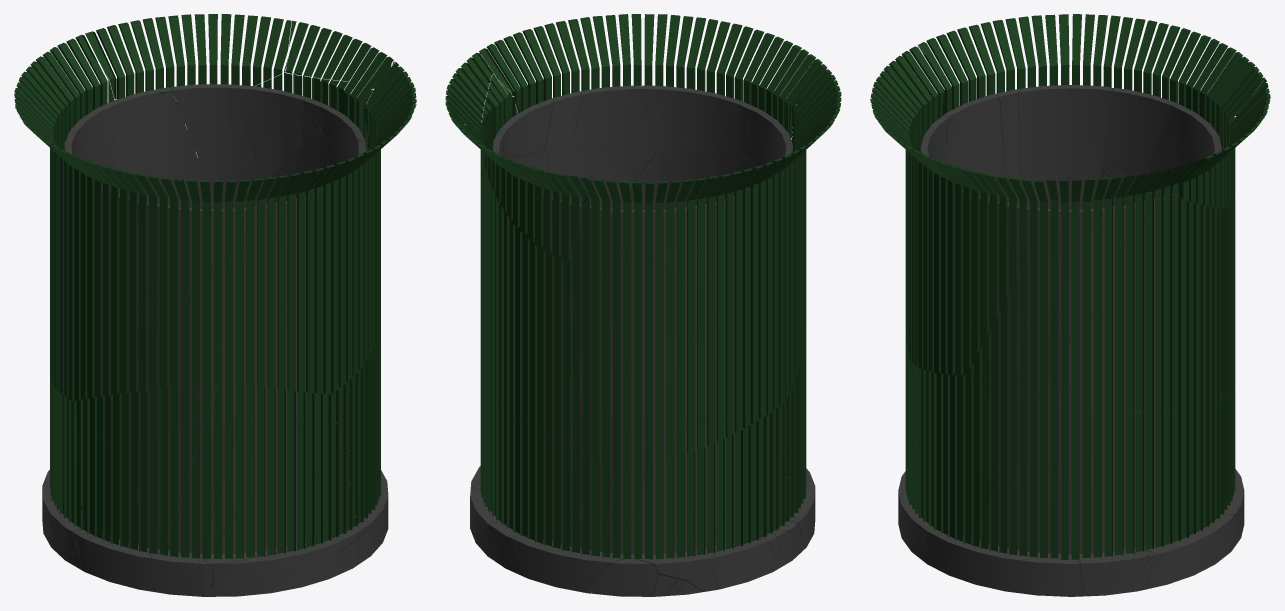
Rendered from TrashCanCellFracture.fbx.
3 views of the same model, side by side, from view 1: azimuth 30°, elevation 25°; view 2: azimuth 150°, elevation 25°; view 3: azimuth 270°, elevation 25° (orthographic).
Parts seen in each view (by area): view 1: TrashInner_cell.035, TrashInner_cell.004, TrashInner_cell.026, TrashInner_cell.008, TrashBottom_cell.023, TrashInner_cell.059, TrashBottom_cell.026, TrashInner_cell.032, TrashInner_cell.045, TrashOuter_cell.211, TrashOuter_cell.030, TrashOuter_cell.208 (+113 smaller); view 2: TrashInner_cell.020, TrashInner_cell.057, TrashInner_cell.026, TrashBottom_cell.041, TrashInner_cell.069, TrashInner_cell.038, TrashOuter_cell.234, TrashOuter_cell.232, TrashOuter_cell.229, TrashOuter_cell.228, TrashOuter_cell.235, TrashOuter_cell.227 (+133 smaller); view 3: TrashInner_cell.028, TrashInner_cell.025, TrashInner_cell.070, TrashInner_cell.019, TrashOuter_cell.134, TrashBottom_cell.012, TrashInner_cell.074, TrashOuter_cell.124, TrashBottom_cell.008, TrashBottom_cell.004, TrashOuter_cell.128, TrashOuter_cell.129 (+131 smaller).
Part boxes in pixels (<box>): TrashInner_cell.035: <box>111,87,199,199</box>; TrashInner_cell.004: <box>173,84,256,168</box>; TrashInner_cell.026: <box>189,250,323,424</box>; TrashInner_cell.008: <box>230,84,297,177</box>; TrashBottom_cell.023: <box>212,549,309,596</box>; TrashInner_cell.059: <box>119,411,235,556</box>; TrashBottom_cell.026: <box>79,535,151,590</box>; TrashInner_cell.032: <box>82,275,213,446</box>; TrashInner_cell.045: <box>138,158,279,258</box>; TrashOuter_cell.211: <box>69,153,102,397</box>; TrashOuter_cell.030: <box>314,161,345,393</box>; TrashOuter_cell.208: <box>99,165,128,393</box>; TrashInner_cell.020: <box>571,85,656,180</box>; TrashInner_cell.057: <box>642,85,725,153</box>; TrashInner_cell.026: <box>630,143,757,209</box>; TrashBottom_cell.041: <box>513,534,623,592</box>; TrashInner_cell.069: <box>570,307,696,448</box>; TrashInner_cell.038: <box>514,378,644,529</box>; TrashOuter_cell.234: <box>593,179,610,471</box>; TrashOuter_cell.232: <box>619,181,631,472</box>; TrashOuter_cell.229: <box>655,181,667,464</box>; TrashOuter_cell.228: <box>666,180,680,460</box>; TrashOuter_cell.235: <box>587,178,599,463</box>; TrashOuter_cell.227: <box>676,179,693,457</box>; TrashInner_cell.028: <box>1018,85,1115,178</box>; TrashInner_cell.025: <box>943,94,1005,188</box>; TrashInner_cell.070: <box>1111,88,1178,179</box>; TrashInner_cell.019: <box>1037,306,1164,466</box>; TrashOuter_cell.134: <box>1071,192,1080,559</box>; TrashBottom_cell.012: <box>938,542,1043,595</box>; TrashInner_cell.074: <box>1143,104,1217,183</box>; TrashOuter_cell.124: <box>1060,190,1068,559</box>; TrashBottom_cell.008: <box>1079,548,1147,596</box>; TrashBottom_cell.004: <box>1144,527,1215,589</box>; TrashOuter_cell.128: <box>1135,192,1144,412</box>; TrashOuter_cell.129: <box>1125,194,1134,412</box>.
Size of the model in its own units: 265 by 312 by 266.
